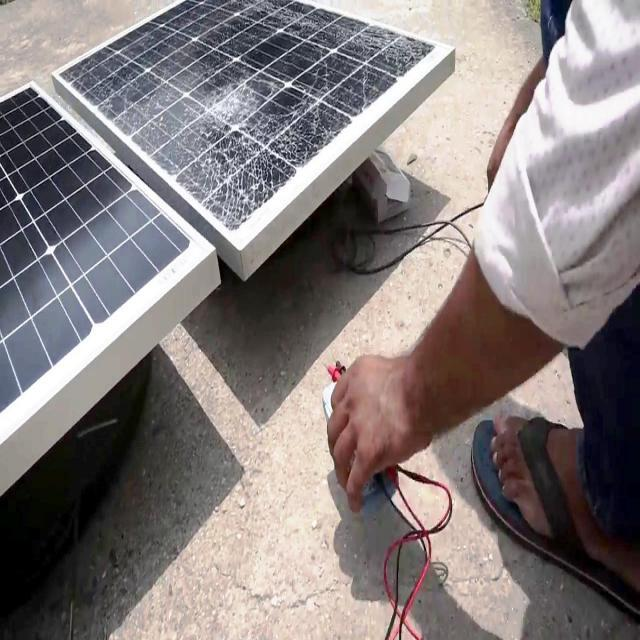faulty: (62, 2, 440, 236)
no faulty: (0, 76, 192, 438)
